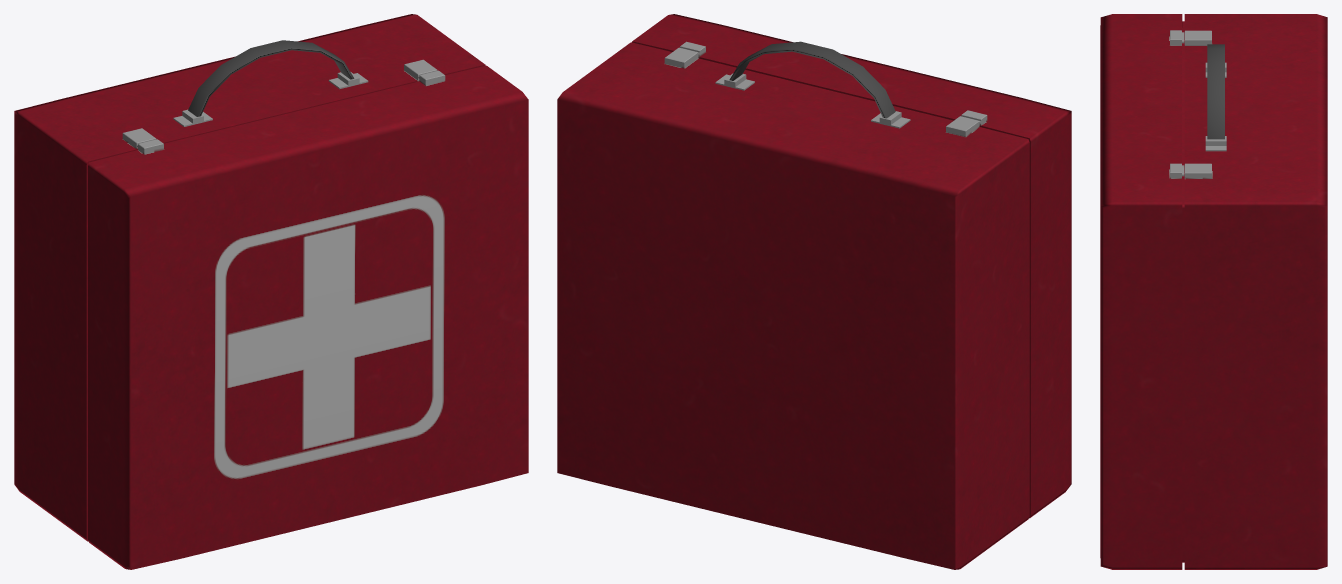
Rendered from Health.fbx.
3 views of the same model, side by side, from view 1: azimuth 30°, elevation 25°; view 2: azimuth 150°, elevation 25°; view 3: azimuth 270°, elevation 25° (orthographic). The views are drawn at different scales.
Parts seen in each view (by area): view 1: Health_Pack; view 2: Health_Pack; view 3: Health_Pack.
Boxes of the visible parts, left/top/right/bottom form: Health_Pack: left=14, top=14, right=528, bottom=569; Health_Pack: left=557, top=14, right=1071, bottom=569; Health_Pack: left=1100, top=14, right=1327, bottom=569.
Bounding box in the file's own units: 0.309 × 0.3204 × 0.1571.
Materials: 1 (1 with a texture image).
